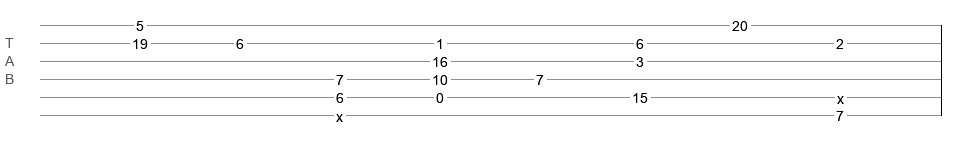0: (436, 90, 444, 100)
1: (436, 36, 444, 46)
10: (432, 72, 448, 82)
15: (632, 90, 648, 100)
16: (432, 54, 448, 64)
19: (132, 36, 148, 46)
2: (836, 36, 844, 46)
20: (732, 18, 748, 28)
3: (636, 54, 644, 64)
5: (136, 18, 144, 28)
6: (236, 36, 244, 46), (336, 90, 344, 100), (636, 36, 644, 46)
7: (336, 72, 344, 82), (536, 72, 544, 82), (836, 108, 844, 118)
x: (336, 109, 343, 117), (837, 91, 844, 99)
